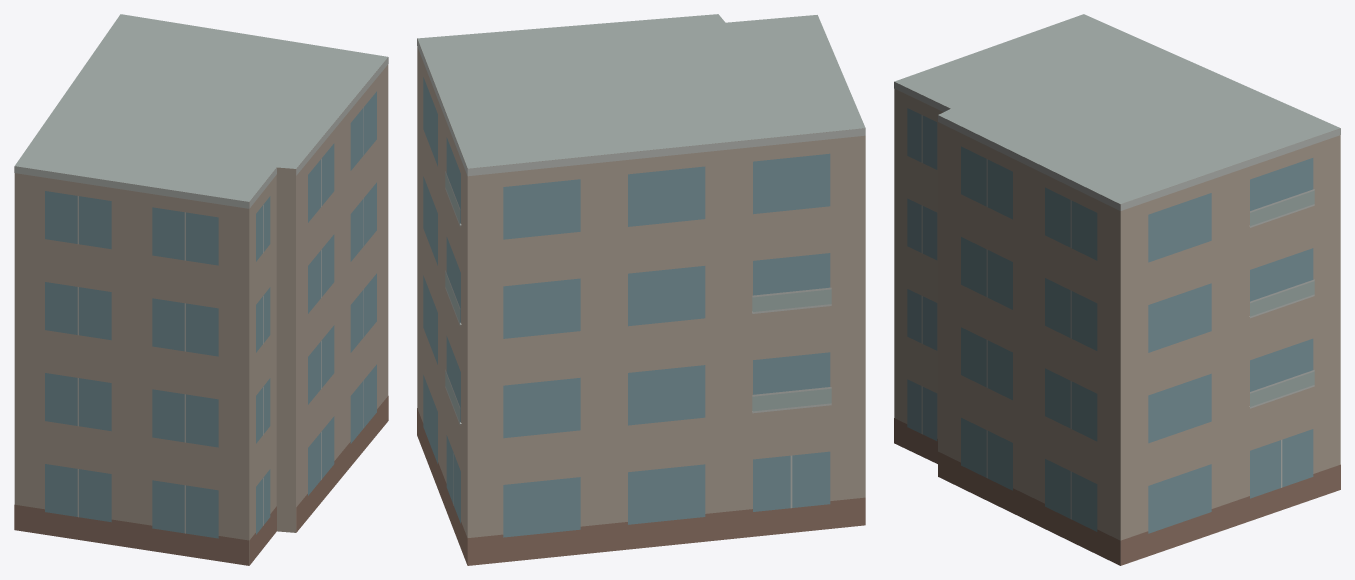
The model's file is survey-upis-32656775.glb.
3 renders of one model, left to right at view 1: azimuth 30°, elevation 25°; view 2: azimuth 150°, elevation 25°; view 3: azimuth 270°, elevation 25°, orthographic. The views are drawn at different scales.
Parts seen in each view (by area): view 1: survey-upis-32656775.tmp; view 2: survey-upis-32656775.tmp; view 3: survey-upis-32656775.tmp.
Boxes of the visible parts, x1,y1,x2,y2 form: survey-upis-32656775.tmp: [14, 14, 388, 565]; survey-upis-32656775.tmp: [417, 14, 865, 565]; survey-upis-32656775.tmp: [894, 14, 1340, 565].
Size of the model in its own units: 14.45 by 12.8 by 14.33.
